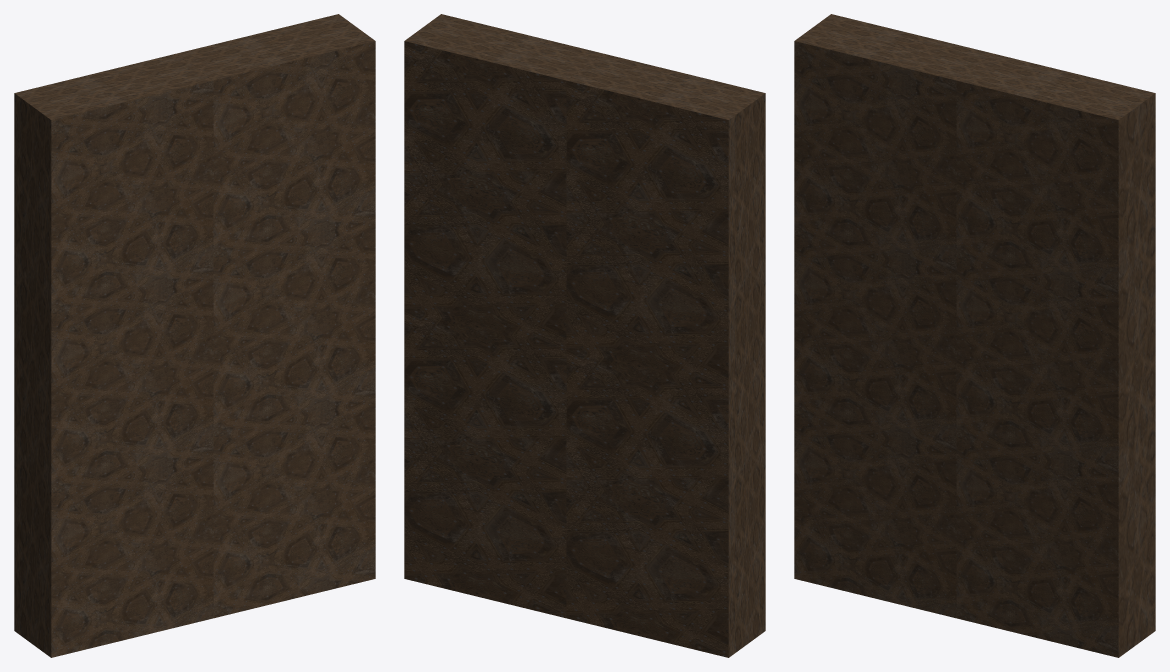
File: Amazonie_Temple_Door.fbx
3 renders of one model, left to right at view 1: azimuth 30°, elevation 25°; view 2: azimuth 150°, elevation 25°; view 3: azimuth 330°, elevation 25°, orthographic.
Visible parts, largest first — view 1: Cube.001, Cube.000; view 2: Cube.001, Cube.000; view 3: Cube.000, Cube.001.
Boxes of the visible parts, x1=… form: Cube.001: x1=14, y1=53, x2=213, y2=657; Cube.000: x1=177, y1=14, x2=375, y2=618; Cube.001: x1=566, y1=53, x2=765, y2=657; Cube.000: x1=404, y1=14, x2=602, y2=618; Cube.000: x1=956, y1=53, x2=1155, y2=657; Cube.001: x1=794, y1=14, x2=992, y2=618.
Size of the model in its own units: 189 by 300 by 37.31.
